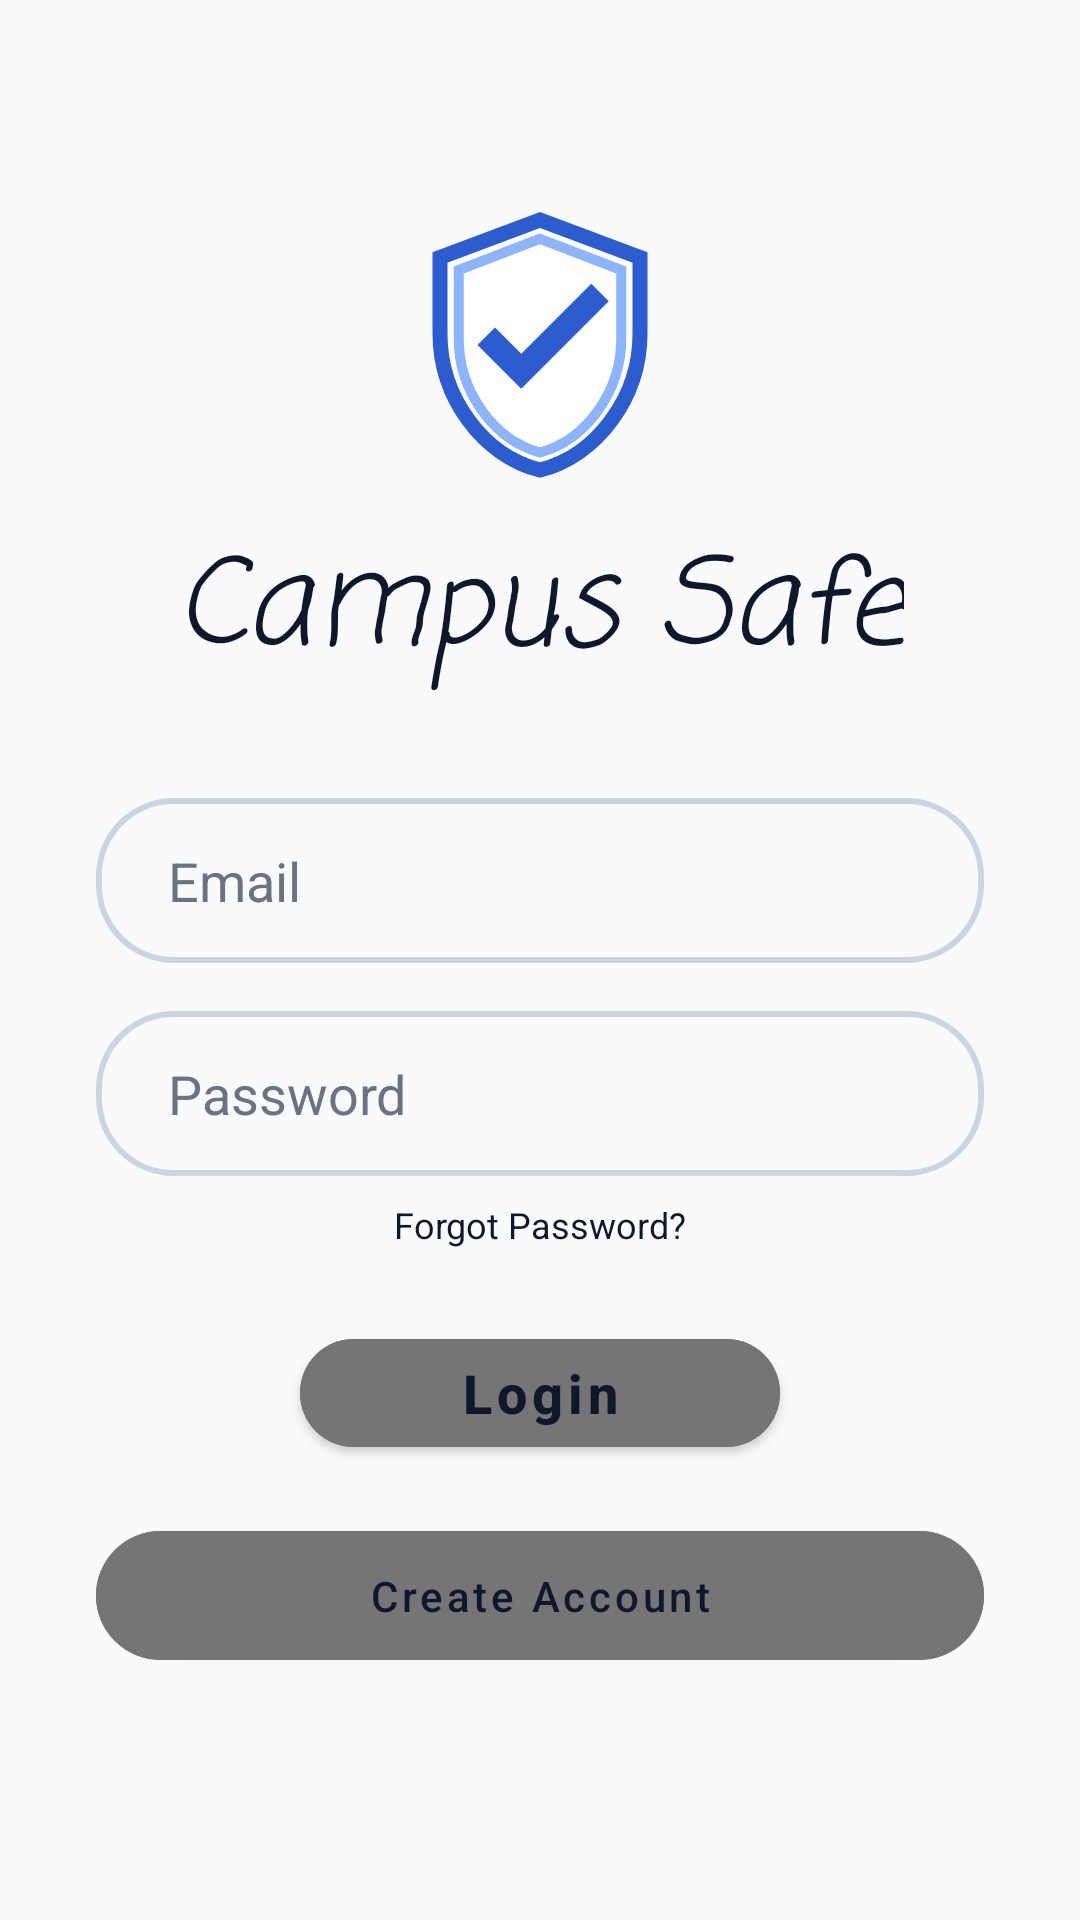

Named icons in this screenshot (1080x1920) and their bounding boxes, (x1, y1, x2, y2):
Shield with checkmark: (432, 212, 648, 478)
